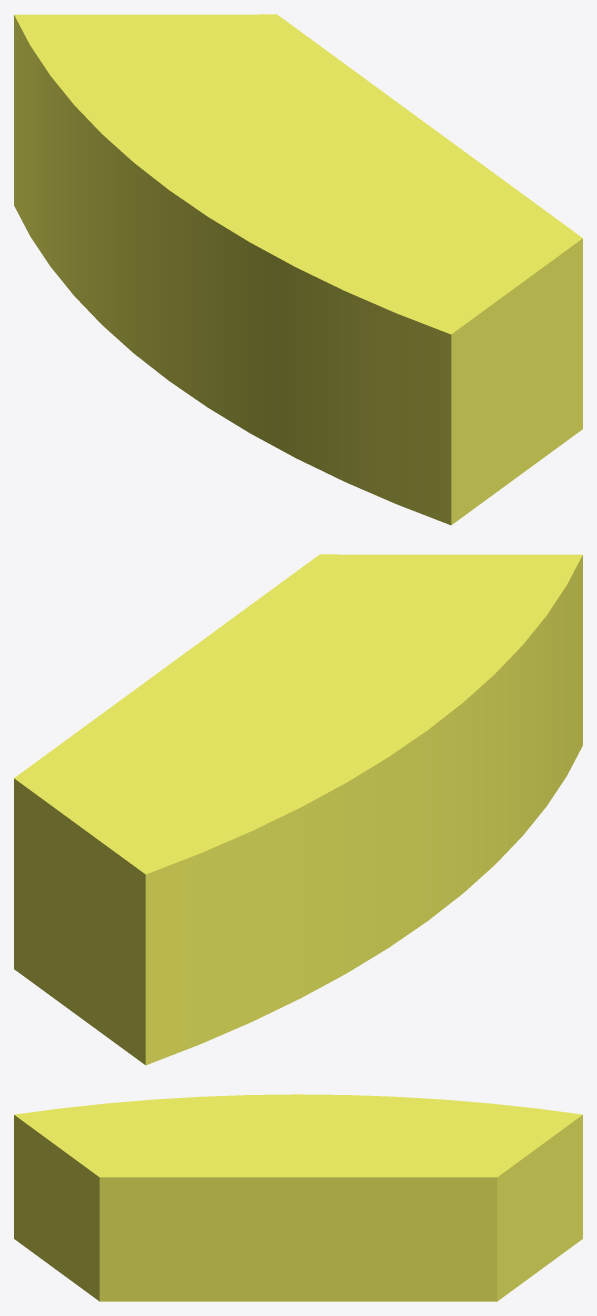
The model's file is amarelo_claro.obj.
3 renders of one model, top to bottom at view 1: azimuth 30°, elevation 25°; view 2: azimuth 150°, elevation 25°; view 3: azimuth 270°, elevation 25°, orthographic. The views are drawn at different scales.
Visible parts, largest first — view 1: Mesh1 Group1 Model; view 2: Mesh1 Group1 Model; view 3: Mesh1 Group1 Model.
Part boxes in pixels (left/top/right/bottom): Mesh1 Group1 Model: left=14, top=14, right=582, bottom=525; Mesh1 Group1 Model: left=14, top=554, right=582, bottom=1065; Mesh1 Group1 Model: left=14, top=1094, right=582, bottom=1301.
Size of the model in its own units: 29.34 by 20.5 by 85.1.
